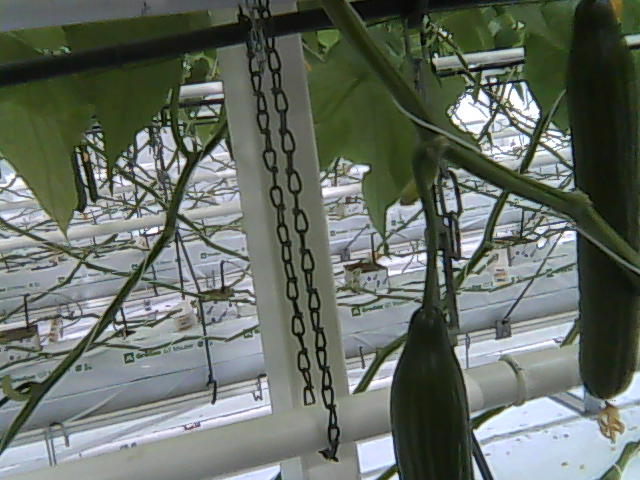concombre: (564, 1, 640, 443), (388, 301, 480, 480)
